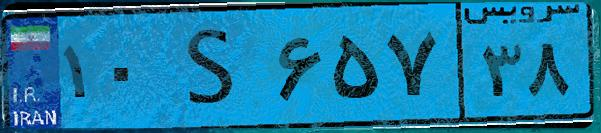0: (110, 28, 158, 98)
1: (57, 26, 110, 100)
3: (475, 38, 525, 113)
5: (330, 28, 385, 110)
6: (270, 28, 330, 110)
7: (385, 28, 445, 110)
8: (525, 38, 570, 115)
S: (158, 12, 270, 120)
